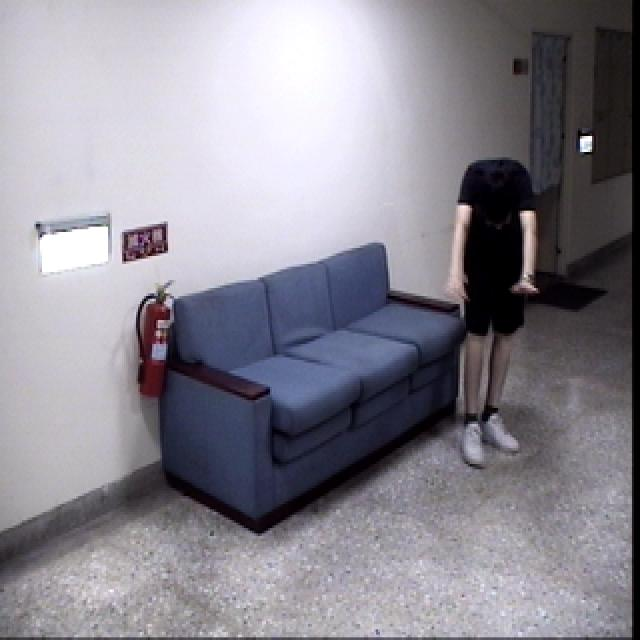bend: (444, 153, 550, 472)
